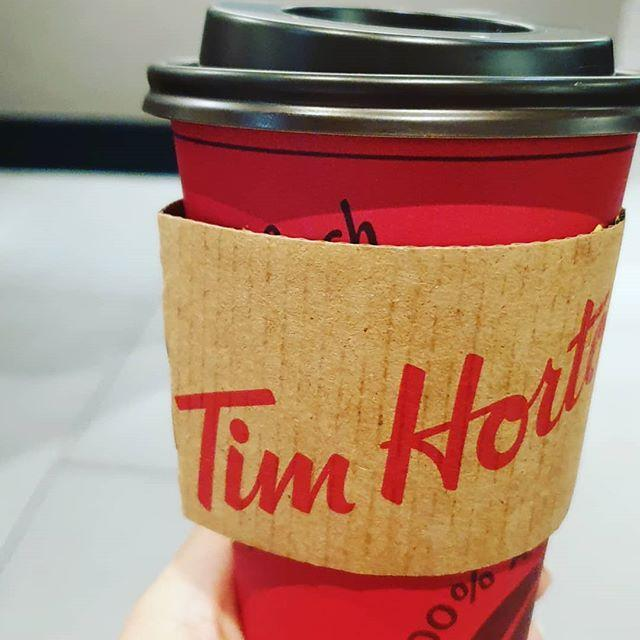timmies: (136, 0, 640, 640)
